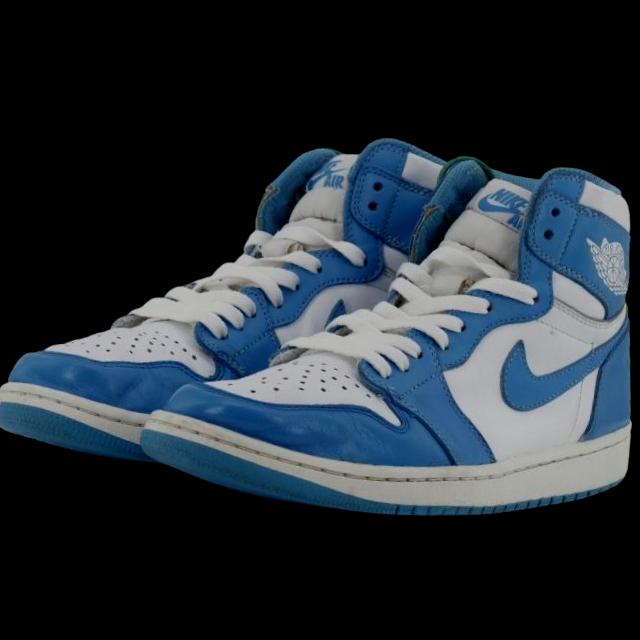nike_original_jordan: (136, 128, 640, 543), (0, 106, 467, 491)
